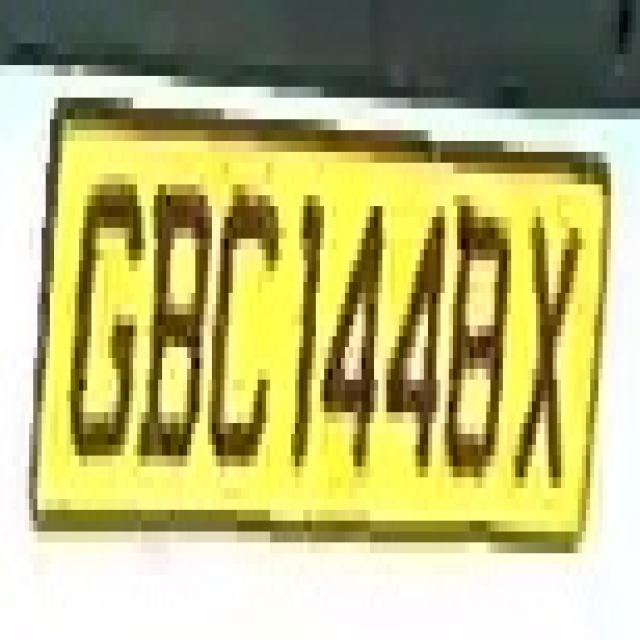1: (278, 163, 332, 477)
4: (378, 163, 449, 532), (320, 184, 391, 532)
8: (445, 174, 507, 520)
B: (137, 152, 216, 510)
C: (204, 141, 274, 488)
G: (66, 130, 133, 510)
X: (507, 195, 590, 521)
